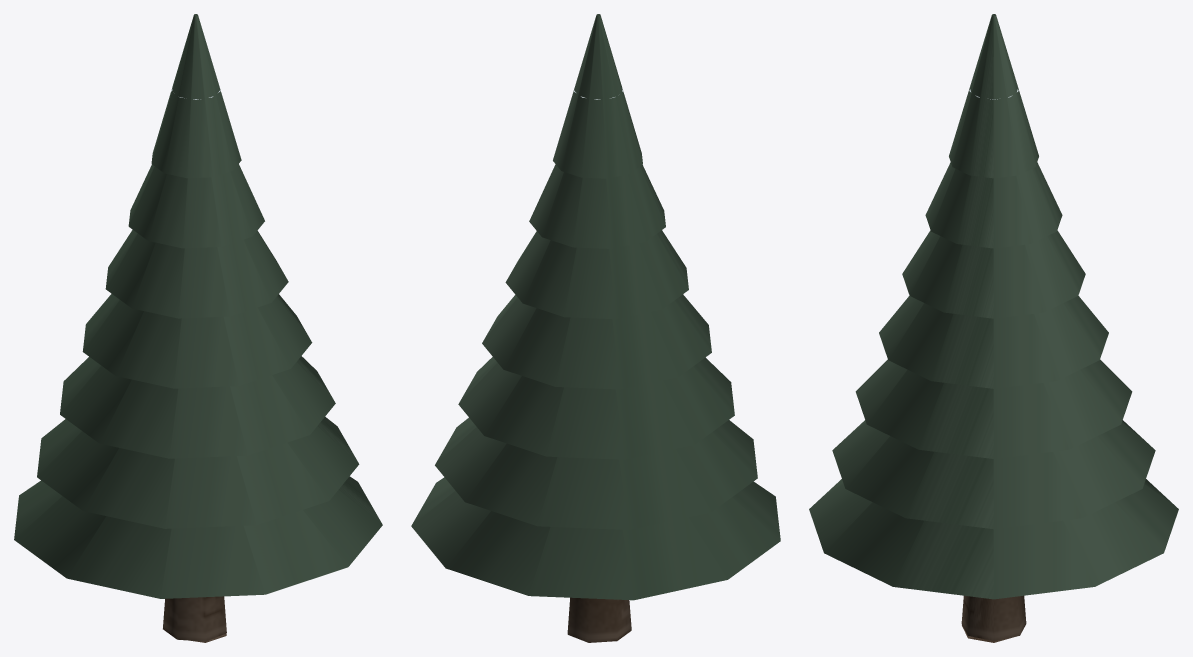
Rendered from prop_pine.glb.
The picture shows the model from 3 angles, left to right: view 1: azimuth 30°, elevation 25°; view 2: azimuth 150°, elevation 25°; view 3: azimuth 270°, elevation 25°; orthographic projection.
Parts seen in each view (by area): view 1: prop_pine; view 2: prop_pine; view 3: prop_pine.
Part boxes in pixels (left/top/right/bottom): prop_pine: left=14, top=14, right=382, bottom=642; prop_pine: left=411, top=14, right=780, bottom=642; prop_pine: left=809, top=14, right=1178, bottom=642.
Bounding box in the file's own units: 0.2375 × 0.44 × 0.2399.
3 materials, 3 textured.
